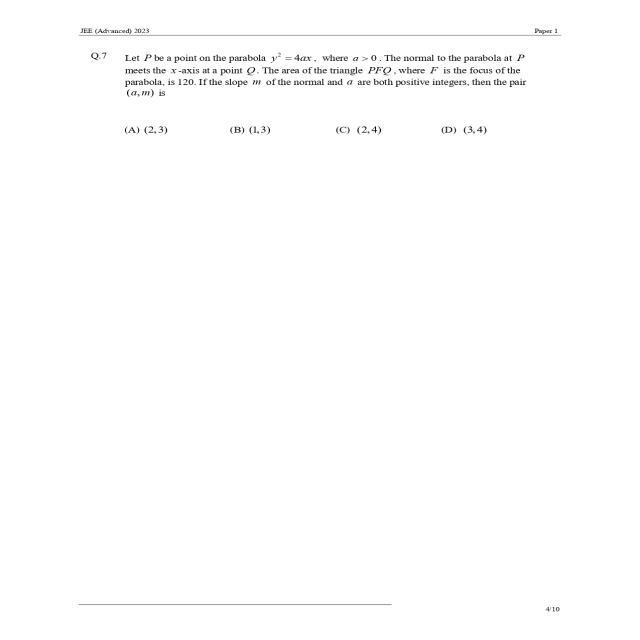Answer_Block: (71, 108, 542, 146)
Question_Answer_Block: (71, 44, 542, 145)
Question_Block: (71, 44, 542, 106)
Question_Paper_Area: (71, 44, 542, 145)
